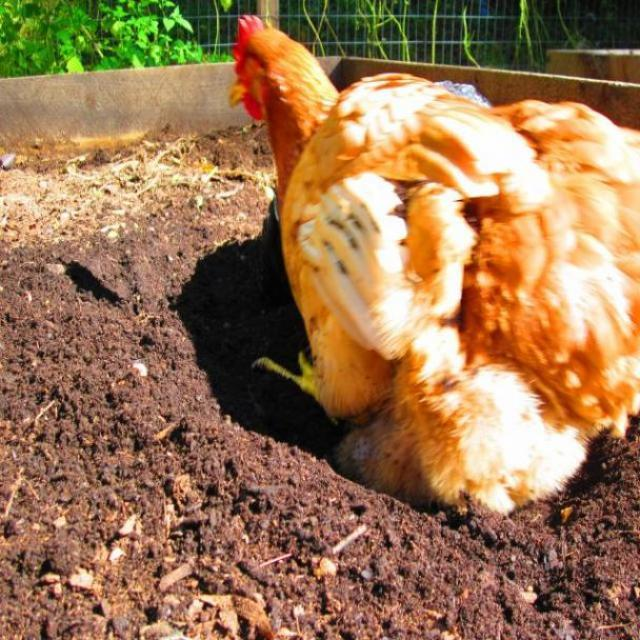Chicken: (228, 14, 640, 504)
